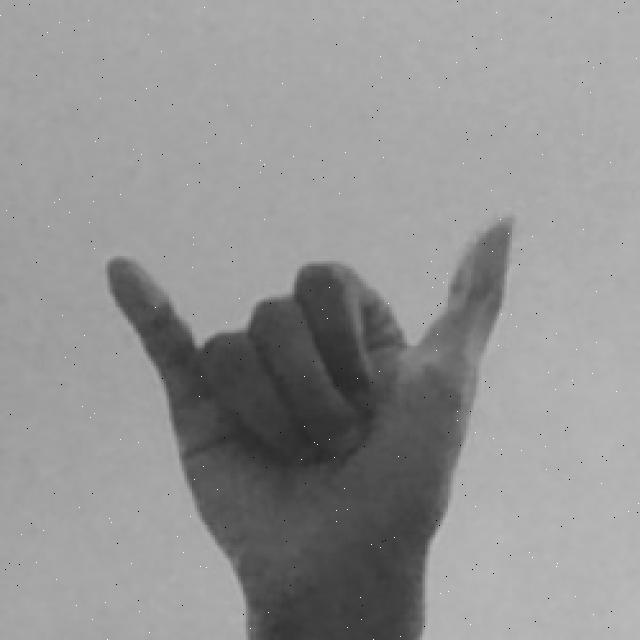Y: (95, 207, 525, 640)
